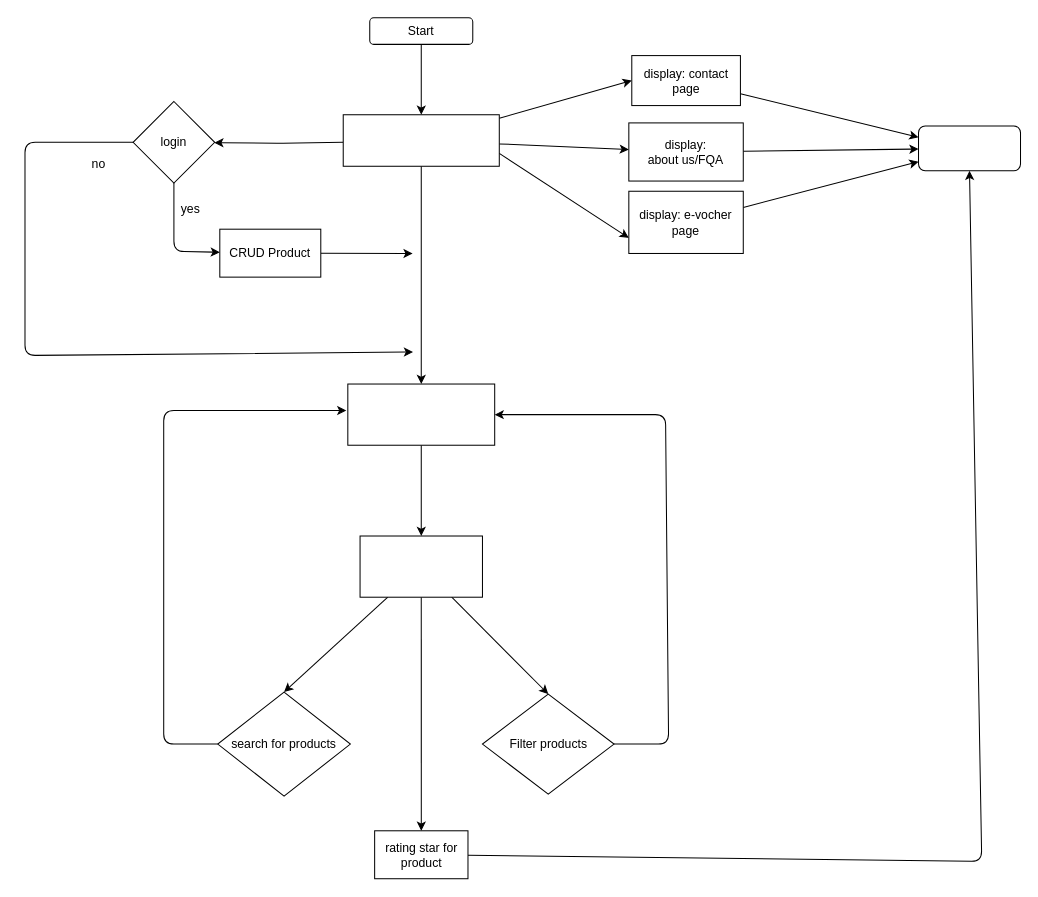
This 1038x897 diagram has some shape labels left out. Here are the shapes that lost their labels. From the top down, the centre of each, then its label:
the point at 420,140: display: homepage/menu/product
the point at 969,148: end
the point at 421,414: display: list of products
the point at 420,566: display: details of a product
